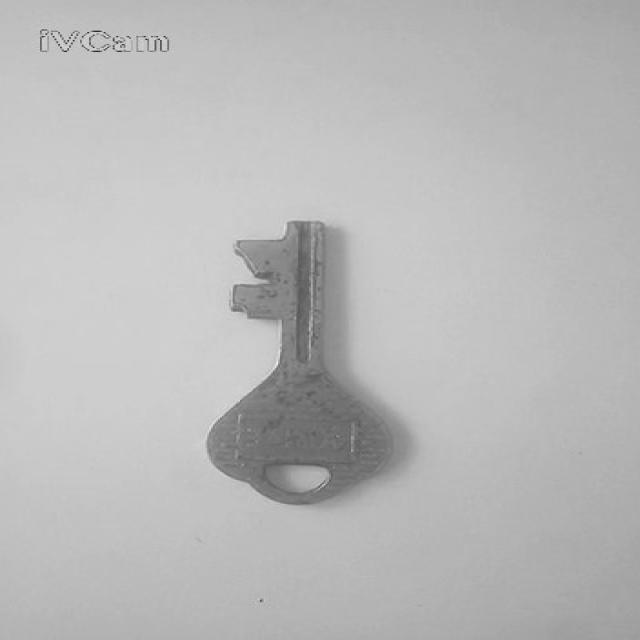key: (207, 221, 393, 505)
